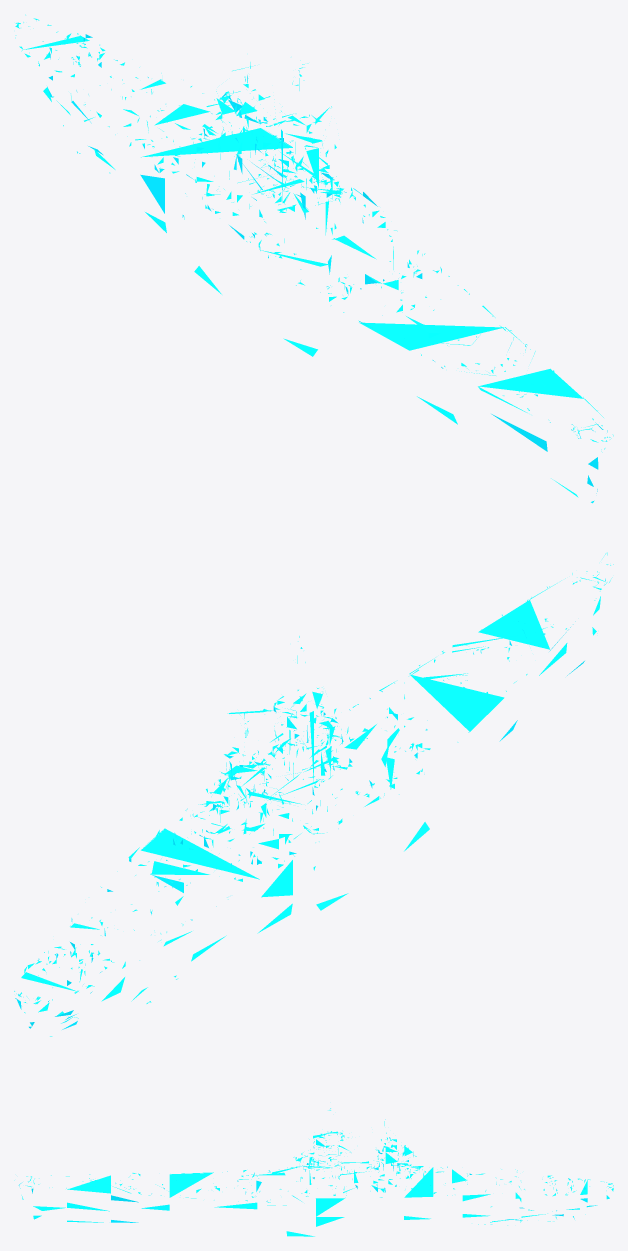
Rendered from Richelieu.glb.
The picture shows the model from 3 angles, top to bottom: view 1: azimuth 30°, elevation 25°; view 2: azimuth 150°, elevation 25°; view 3: azimuth 270°, elevation 25°; orthographic projection. The views are drawn at different scales.
Bounding box in the file's own units: 2.21 × 4.02 × 16.51.
